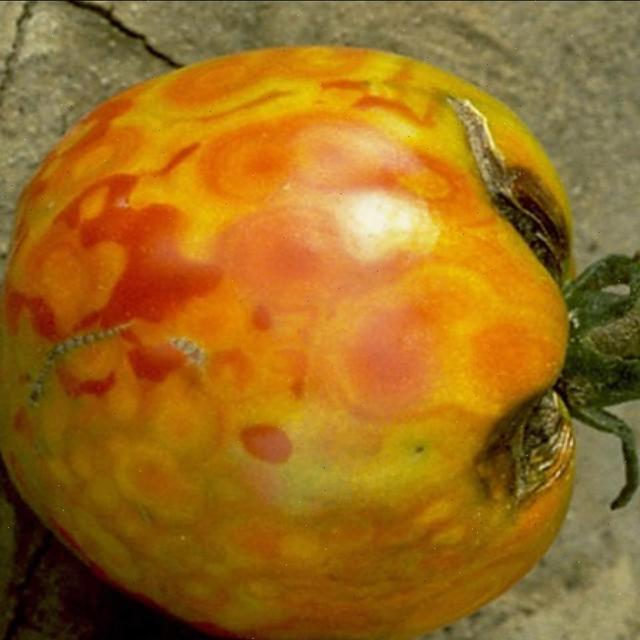Spotted wilt Virus Fruit: (123, 216, 410, 637)
